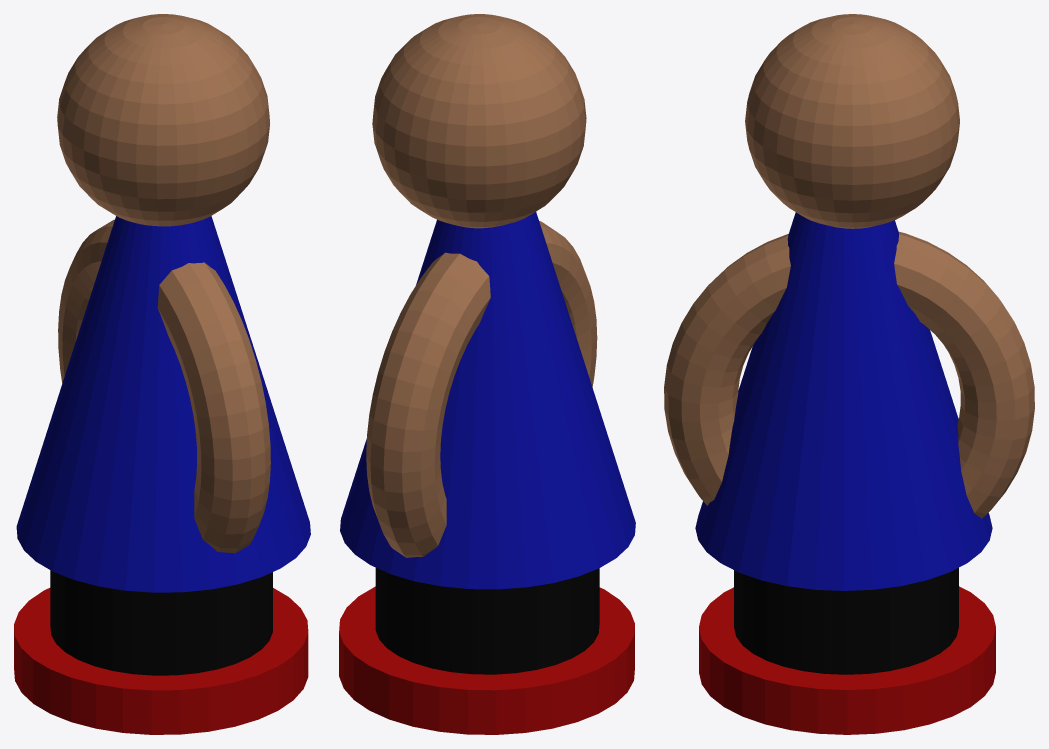
File: passenger.obj
The picture shows the model from 3 angles, left to right: view 1: azimuth 30°, elevation 25°; view 2: azimuth 150°, elevation 25°; view 3: azimuth 270°, elevation 25°; orthographic projection.
Visible parts, largest first — view 1: Cone, Sphere, Torus, Cylinder.001_Cylinder.002, Cylinder; view 2: Cone, Sphere, Torus, Cylinder.001_Cylinder.002, Cylinder; view 3: Cone, Torus, Sphere, Cylinder.001_Cylinder.002, Cylinder.
Part boxes in pixels (x1=…): Cone: x1=16, y1=216, x2=310, y2=592; Sphere: x1=57, y1=14, x2=269, y2=226; Torus: x1=58, y1=219, x2=270, y2=553; Cylinder.001_Cylinder.002: x1=14, y1=588, x2=308, y2=734; Cylinder: x1=50, y1=570, x2=272, y2=675; Cone: x1=340, y1=212, x2=635, y2=589; Sphere: x1=372, y1=14, x2=586, y2=228; Torus: x1=366, y1=221, x2=597, y2=557; Cylinder.001_Cylinder.002: x1=339, y1=586, x2=634, y2=734; Cylinder: x1=375, y1=568, x2=599, y2=674; Cone: x1=695, y1=212, x2=992, y2=590; Torus: x1=664, y1=231, x2=1034, y2=518; Sphere: x1=745, y1=14, x2=959, y2=228; Cylinder.001_Cylinder.002: x1=699, y1=586, x2=995, y2=734; Cylinder: x1=734, y1=567, x2=958, y2=674.
Bounding box in the file's own units: 2.01 × 4.83 × 2.5.
